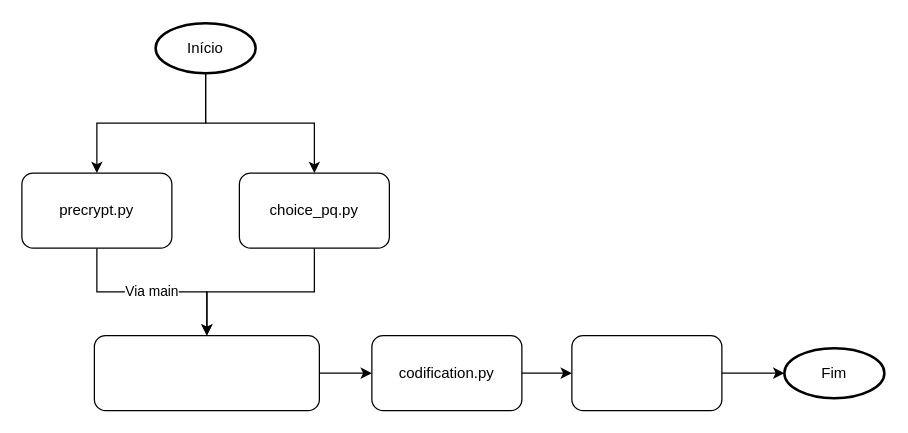
Image size: 908x433. Some labels were removed from this diagram. Here are the shapes that lost their labels. From the top down, the centre of each, then its label:
At [206,372]: "generate_encryption_key.py".
At [646,372]: "main.py".
